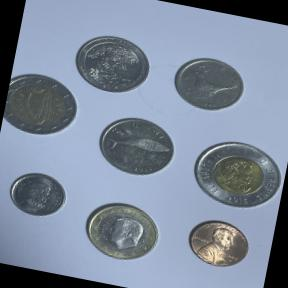coin: (182, 126, 288, 219), (88, 104, 185, 188), (75, 193, 169, 269), (68, 25, 156, 102), (0, 66, 84, 144), (179, 210, 256, 274), (3, 164, 72, 224)
